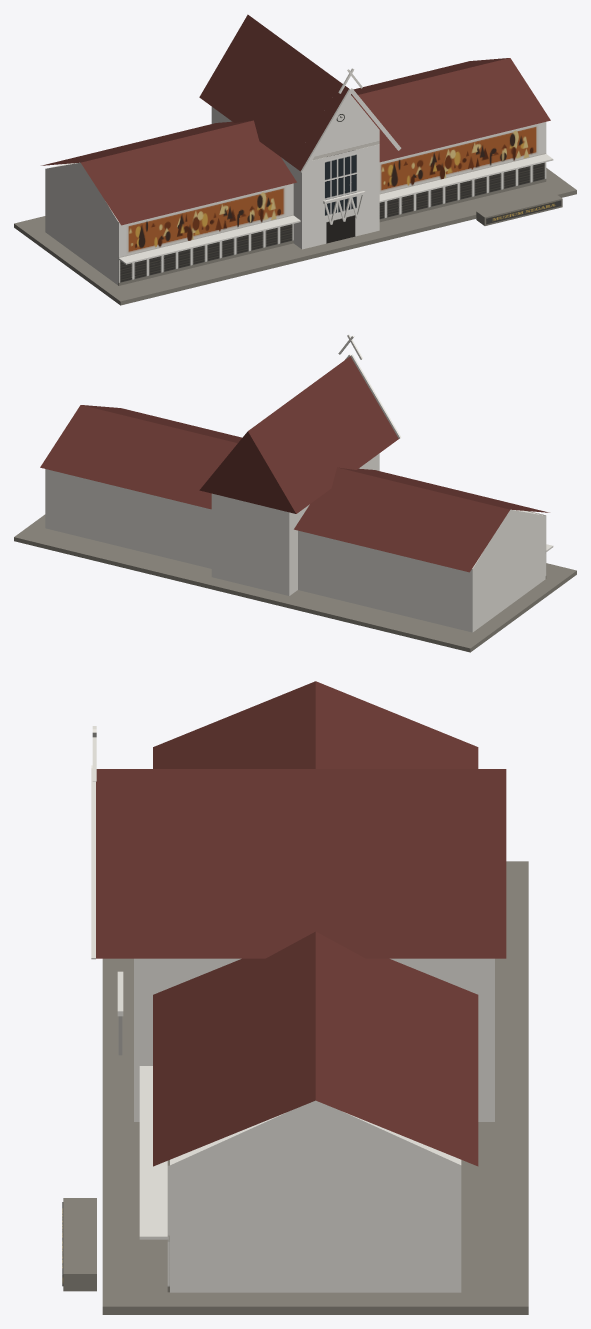
Rendered from muzium-negara.glb.
3 renders of one model, top to bottom at view 1: azimuth 30°, elevation 25°; view 2: azimuth 150°, elevation 25°; view 3: azimuth 270°, elevation 25°, orthographic. The views are drawn at different scales.
Parts seen in each view (by area): view 1: mn_roof, mn_wing, mn_white, mn_stone, mn_front, mn_gable, mn_sign; view 2: mn_roof, mn_white, mn_stone; view 3: mn_roof, mn_white, mn_stone.
Boxes of the visible parts, x1=… form: mn_roof: x1=41, y1=14, x2=550, y2=225; mn_wing: x1=118, y1=122, x2=546, y2=285; mn_white: x1=45, y1=68, x2=553, y2=285; mn_stone: x1=14, y1=168, x2=576, y2=305; mn_front: x1=301, y1=144, x2=379, y2=249; mn_gable: x1=313, y1=95, x2=379, y2=160; mn_sign: x1=486, y1=200, x2=561, y2=224; mn_roof: x1=40, y1=356, x2=549, y2=572; mn_white: x1=45, y1=334, x2=553, y2=632; mn_stone: x1=14, y1=514, x2=576, y2=652; mn_roof: x1=96, y1=681, x2=506, y2=1166; mn_white: x1=91, y1=726, x2=494, y2=1292; mn_stone: x1=63, y1=861, x2=528, y2=1314.
Bounding box in the file's own units: 94 × 35.86 × 41.6.
7 materials, 4 textured.
